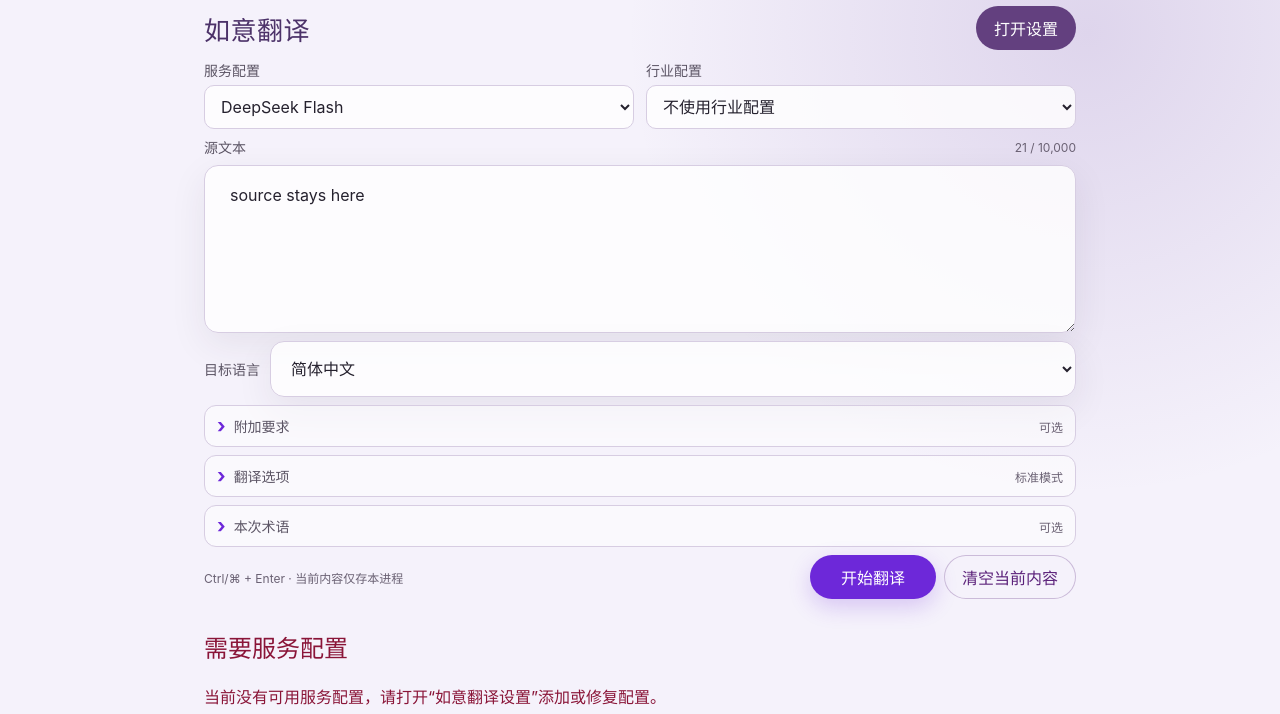
Test: ConfiguredTranslationPage › keeps the source and guides the user when no service configuration is usable
Expected: the text "当前没有可用服务配置，请打开“如意翻译设置”添加或修复配置。" is shown, [204,687,666,707]
Expected: the text box labelled "源文本" holds "  source stays here  ", [204,165,1076,333]
Step 1. Click the button "打开设置" → [1026, 28], box [976,6,1076,50]
(page scrolled)
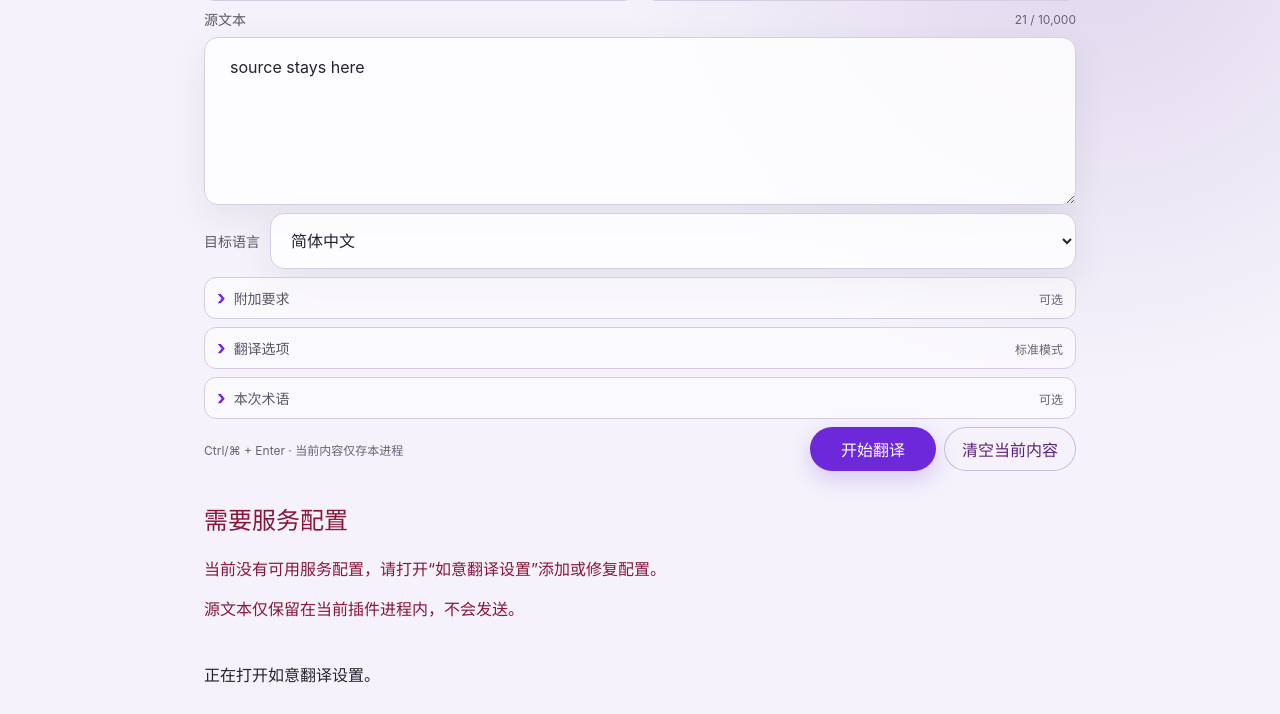
Result: the message "正在打开如意翻译设置。" is shown at [204,665,380,685]
